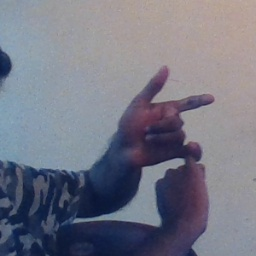S: (109, 63, 229, 216)
